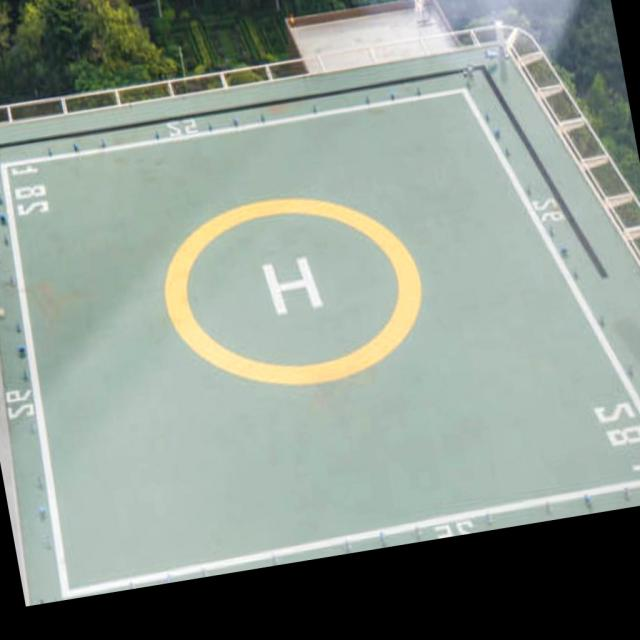helipad: (157, 192, 427, 388)
